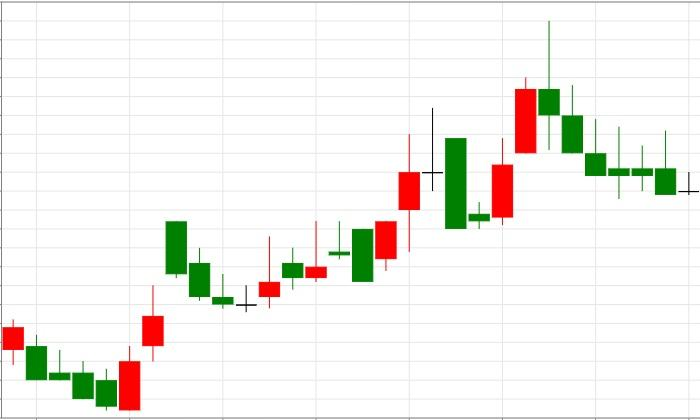bullish_engulfing_rise: (2, 319, 141, 411)
